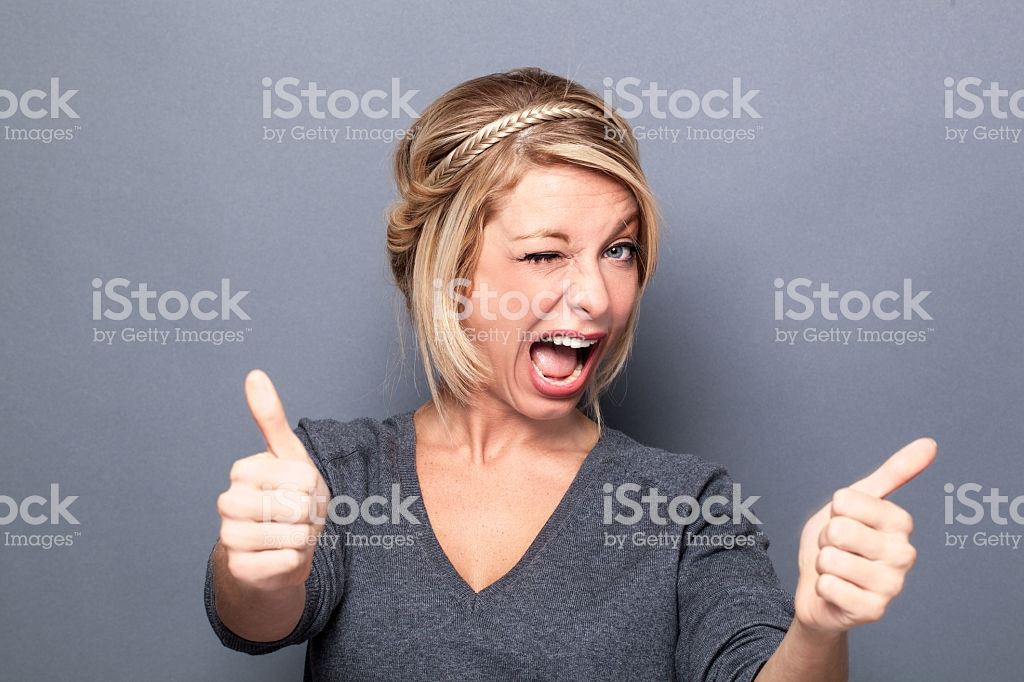thumbsup: (792, 436, 938, 631), (213, 370, 330, 592)
